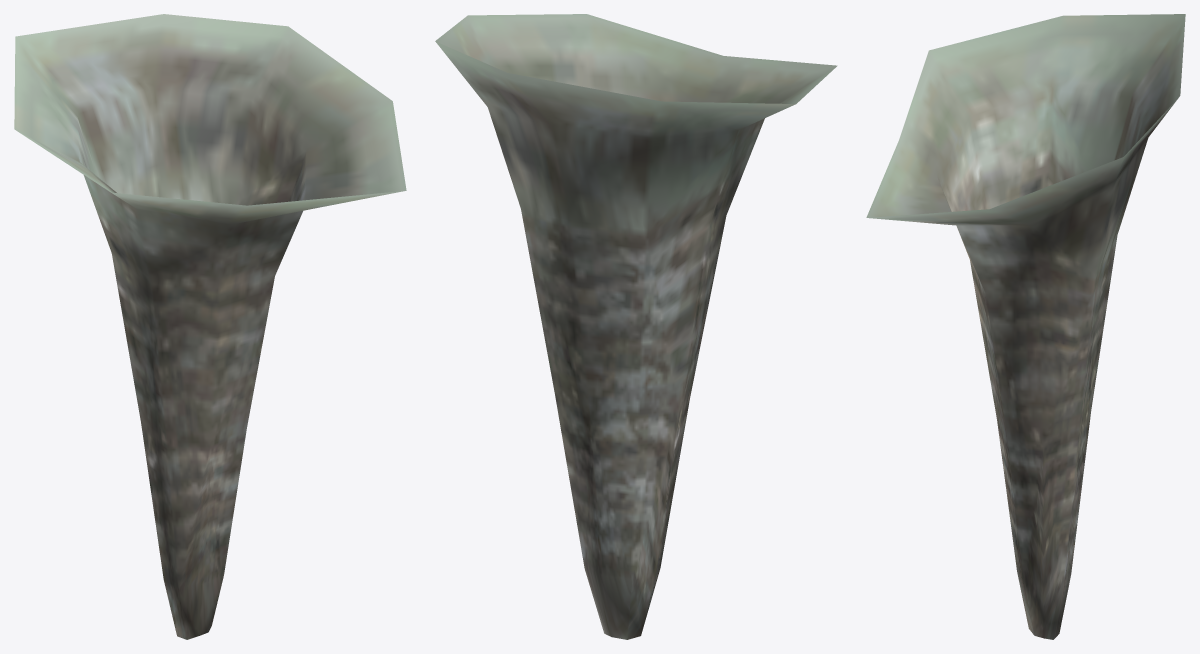
File: TROLLHOLE02_PS-UPPERSTALAG27.fbx
The picture shows the model from 3 angles, left to right: view 1: azimuth 30°, elevation 25°; view 2: azimuth 150°, elevation 25°; view 3: azimuth 270°, elevation 25°; orthographic projection. The views are drawn at different scales.
Visible parts, largest first — view 1: TROLLHOLE02_PS-UPPERSTALAG27; view 2: TROLLHOLE02_PS-UPPERSTALAG27; view 3: TROLLHOLE02_PS-UPPERSTALAG27.
Part boxes in pixels (bbox=[...]): TROLLHOLE02_PS-UPPERSTALAG27: bbox=[14, 14, 406, 639]; TROLLHOLE02_PS-UPPERSTALAG27: bbox=[435, 14, 837, 639]; TROLLHOLE02_PS-UPPERSTALAG27: bbox=[866, 14, 1185, 639].
Bounding box in the file's own units: 9185 × 14779 × 7487.
1 material, 1 textured.
